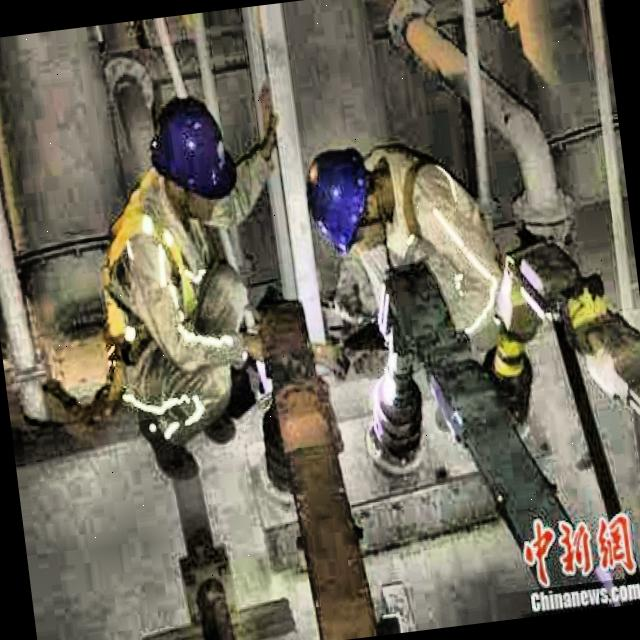helmet: (140, 88, 247, 233), (298, 134, 387, 264)
